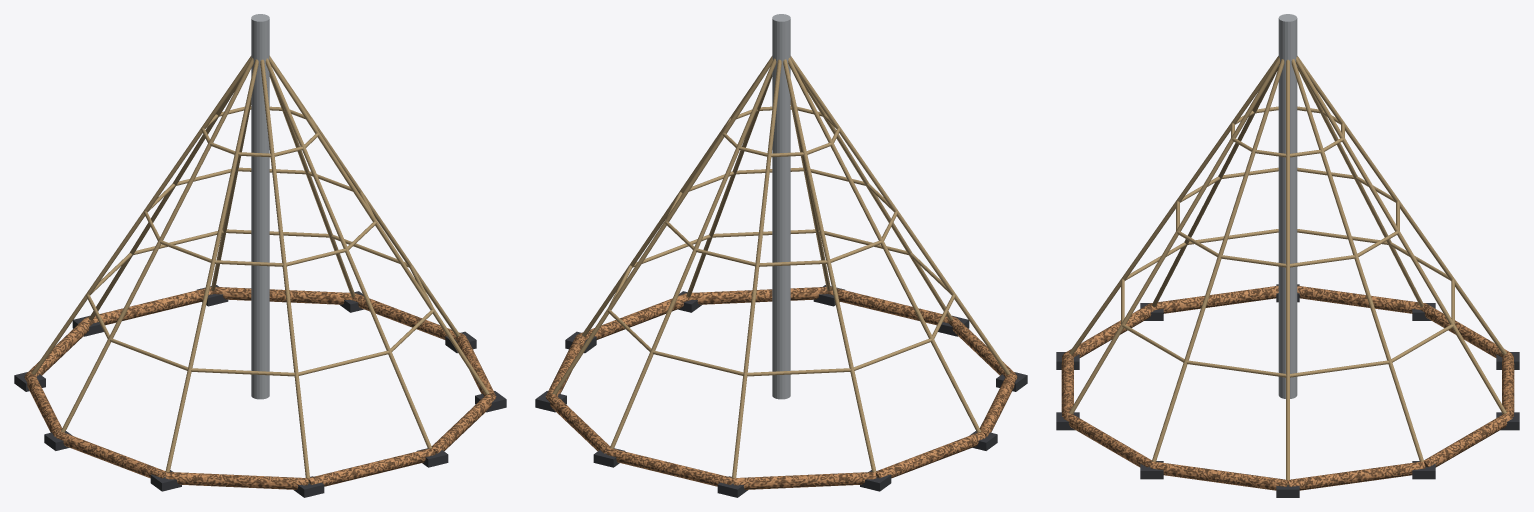
The picture shows the model from 3 angles, left to right: view 1: azimuth 30°, elevation 25°; view 2: azimuth 150°, elevation 25°; view 3: azimuth 270°, elevation 25°; orthographic projection.
Visible parts, largest first — view 1: baseOffset=0;depth=3;height=2.5;material=timber;power=;servi (×4); view 2: baseOffset=0;depth=3;height=2.5;material=timber;power=;servi (×4); view 3: baseOffset=0;depth=3;height=2.5;material=timber;power=;servi (×4).
Part boxes in pixels (x1,y1,x2,y2): baseOffset=0;depth=3;height=2.5;material=timber;power=;servi (×4): [14, 14, 506, 497]; baseOffset=0;depth=3;height=2.5;material=timber;power=;servi (×4): [535, 14, 1027, 497]; baseOffset=0;depth=3;height=2.5;material=timber;power=;servi (×4): [1056, 14, 1519, 497].
Bounding box in the file's own units: 3.15 × 3 × 2.7.
4 materials, 1 textured.
